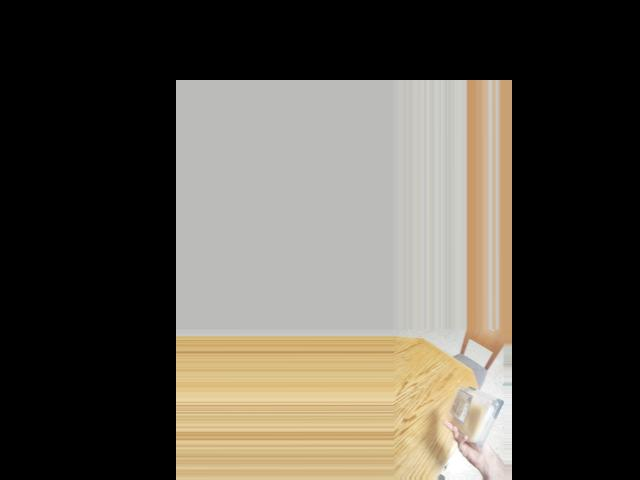cheese: (453, 385, 495, 444)
